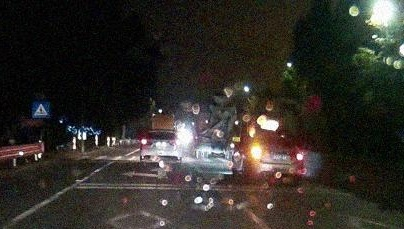L_light: (252, 149, 268, 156), (141, 140, 153, 145)
R_light: (289, 153, 303, 160), (168, 141, 180, 146)
T_light: (267, 137, 275, 140), (157, 131, 164, 134)
night-left: (251, 135, 304, 186)
night-no: (140, 130, 181, 169)
